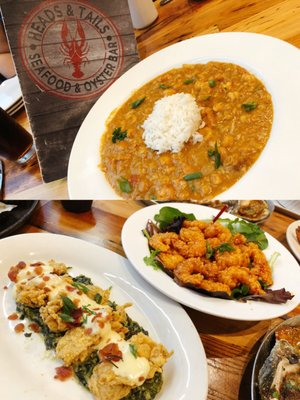sushi: (70, 40, 291, 199)
